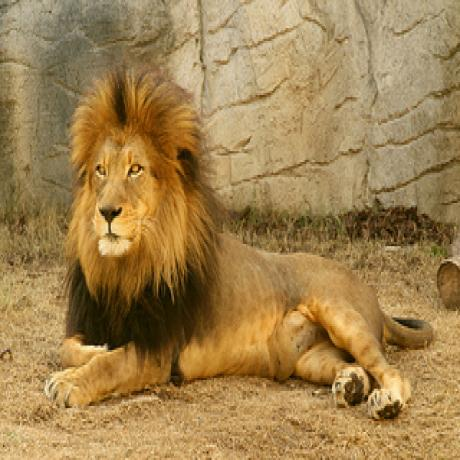Lion: (52, 49, 409, 426)
